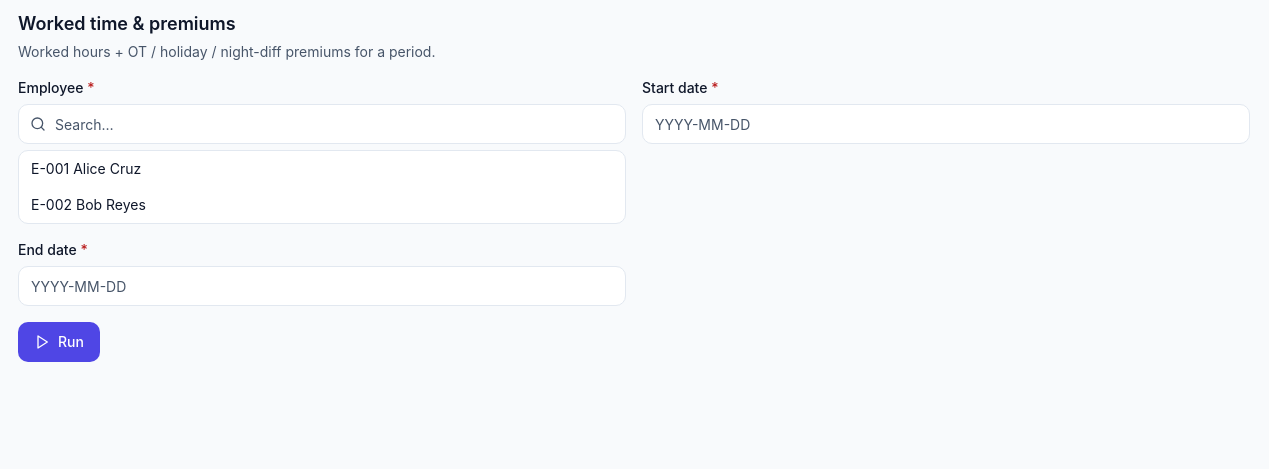
it: HR manifest — US2 attendance + leave › worked-time: renders the premium breakdown for a picked employee + period
The width and height of the screenshot is (1269, 469).
Click the button "E-001 Alice Cruz": (86, 168) [19,151,625,187]
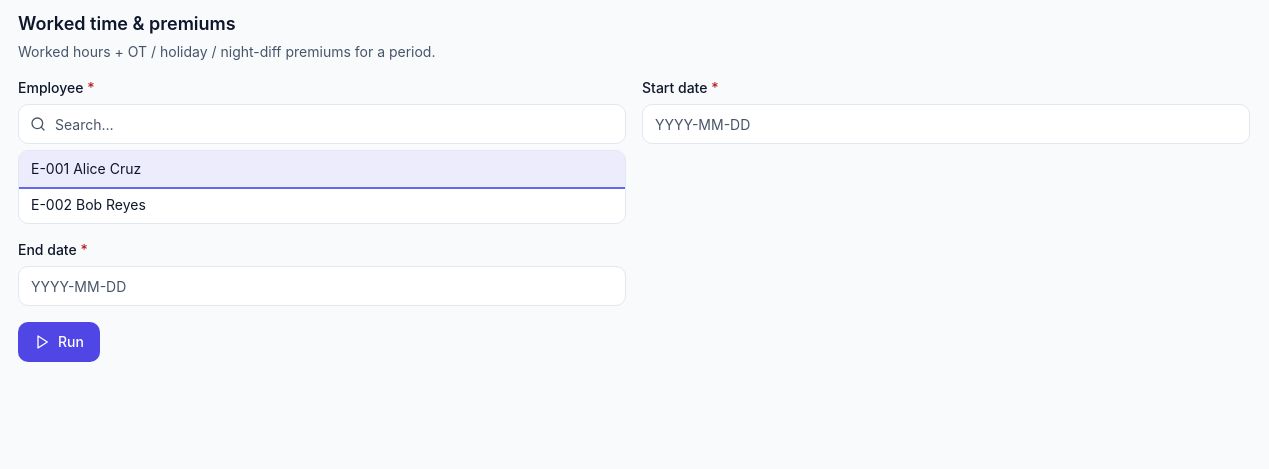
In the field labelled "Start date *": (946, 124) [642,104,1250,144], type "2026-08-01"
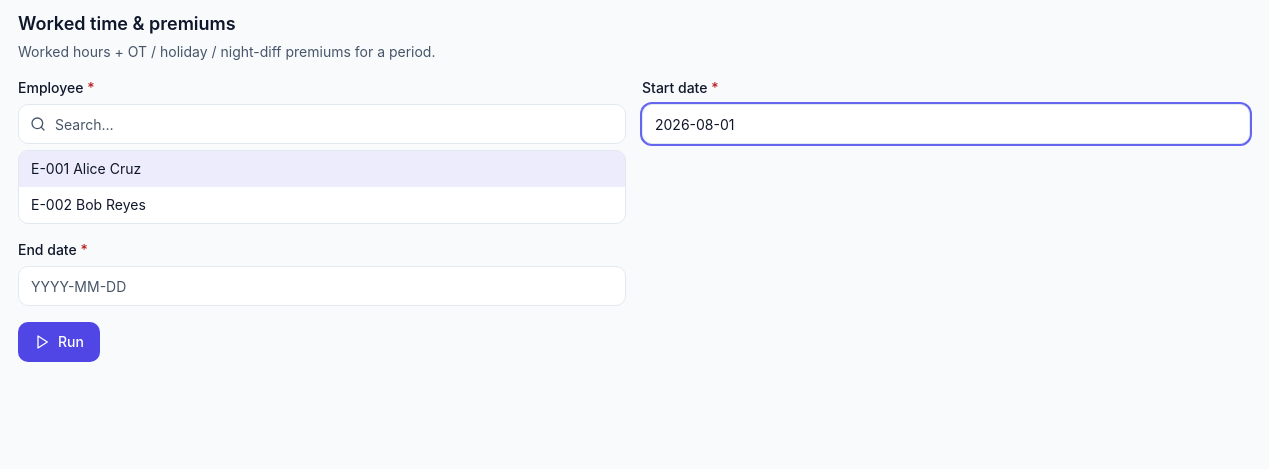
In the field labelled "End date *": (322, 286) [18,266,626,306], type "2026-08-15"
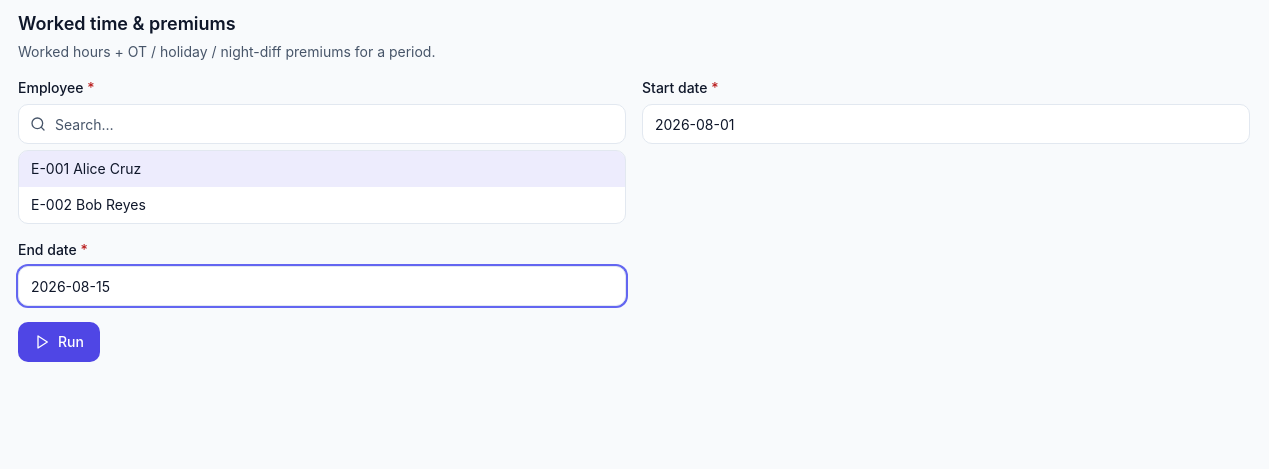
Click the button "Run": (59, 342) [18,322,100,362]
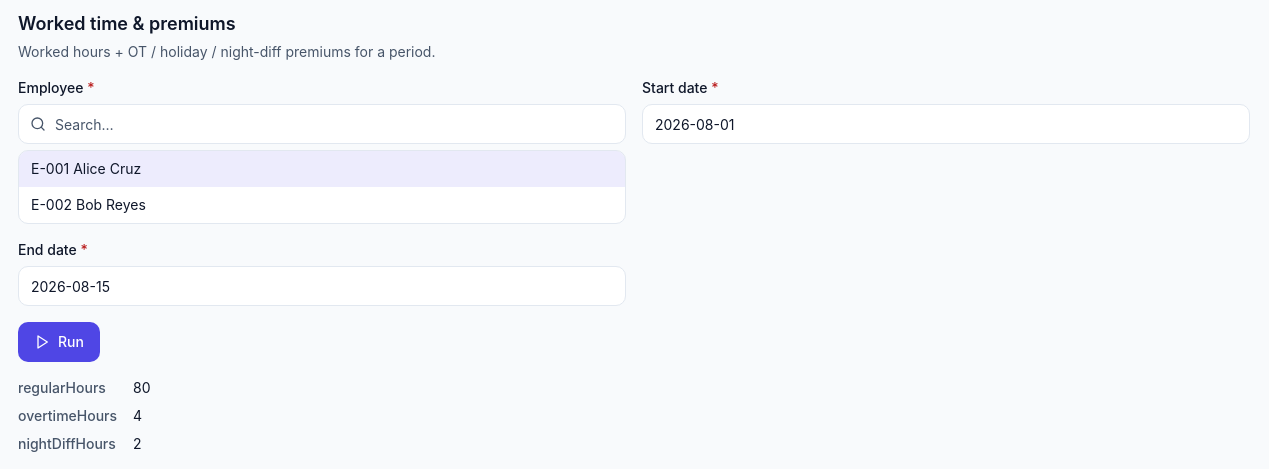
Expected: the text "80" is shown, [133,379,151,396]
